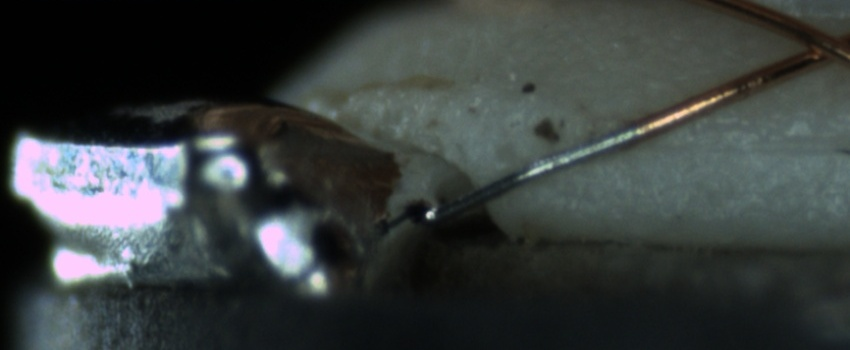CL: (778, 16, 848, 72)
DL: (630, 116, 850, 180)
TS: (427, 125, 640, 223)
